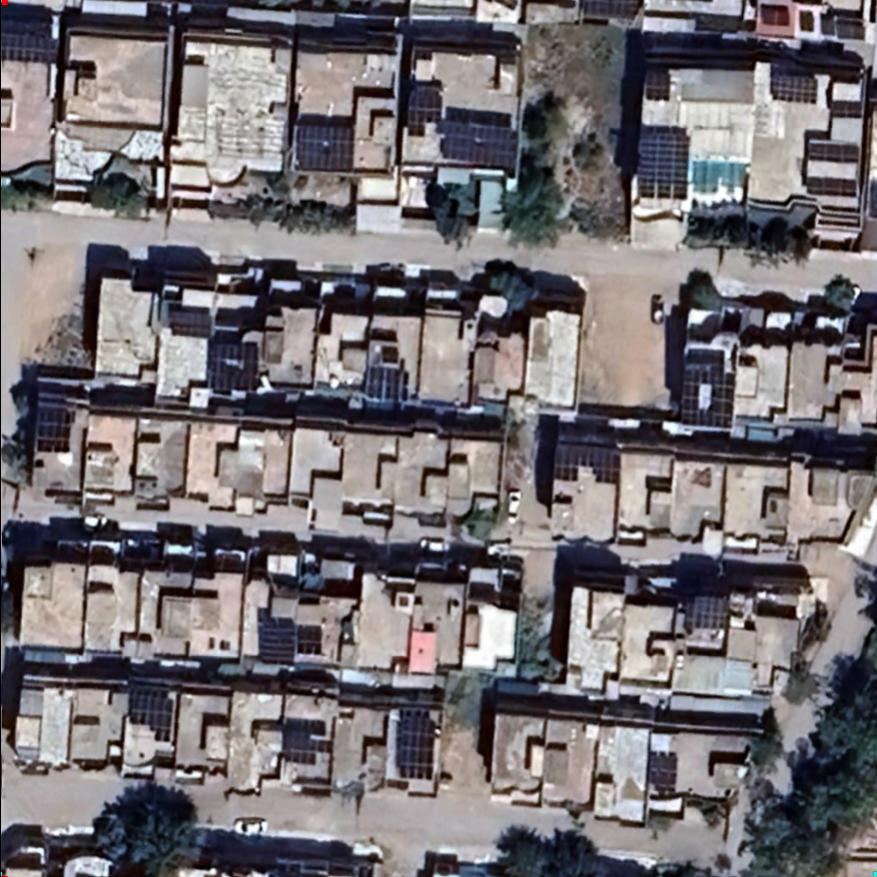Solarpanel: (430, 108, 519, 173), (757, 0, 872, 50), (670, 353, 741, 432), (632, 120, 692, 202), (291, 114, 359, 179), (253, 613, 325, 669), (547, 437, 624, 486), (202, 336, 262, 396), (390, 710, 436, 782), (123, 684, 176, 745), (0, 27, 65, 71), (31, 399, 82, 454), (279, 717, 329, 768), (401, 81, 444, 139), (763, 67, 821, 108), (357, 361, 413, 403), (682, 592, 734, 635), (800, 135, 863, 164), (167, 304, 212, 343), (801, 170, 860, 199), (645, 749, 679, 790), (829, 98, 863, 123)
